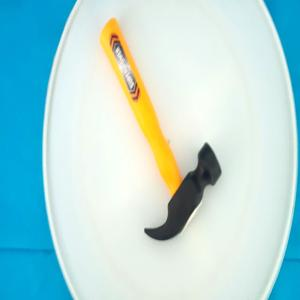martelo: (97, 16, 224, 244)
